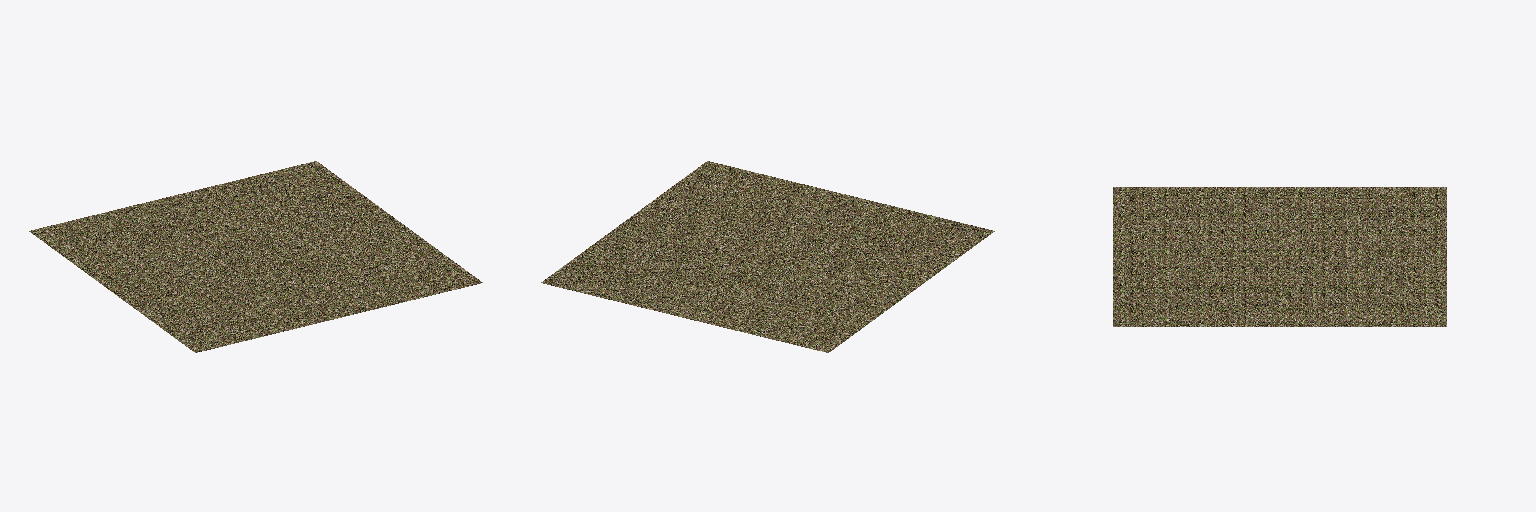
3 renders of one model, left to right at view 1: azimuth 30°, elevation 25°; view 2: azimuth 150°, elevation 25°; view 3: azimuth 270°, elevation 25°, orthographic.
Visible parts, largest first — view 1: Form4; view 2: Form4; view 3: Form4.
Boxes of the visible parts, <box> form: Form4: <box>29,161,482,352</box>; Form4: <box>541,161,994,352</box>; Form4: <box>1113,187,1446,326</box>.
Size of the model in its own units: 4261 by 28.6 by 4277.
1 materials, 1 textured.